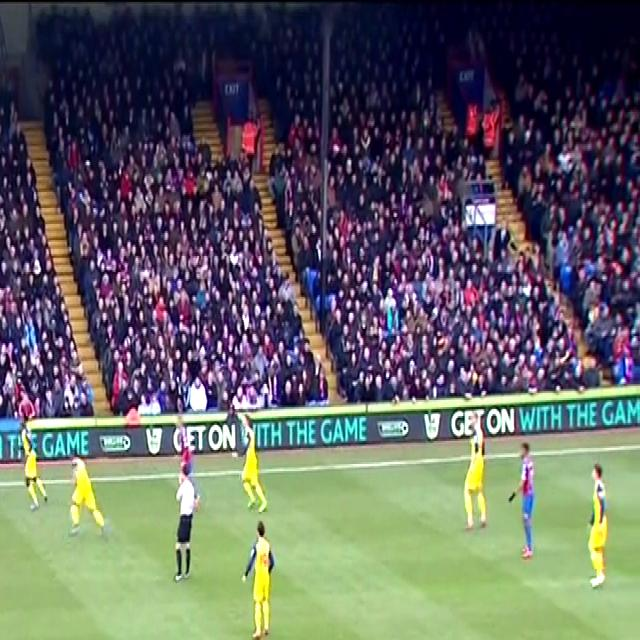referee: (166, 477, 209, 591)
soccer-player: (580, 462, 626, 600), (235, 522, 287, 640), (503, 438, 550, 566), (62, 450, 112, 542), (238, 428, 274, 517), (13, 425, 48, 515), (0, 448, 4, 530)
